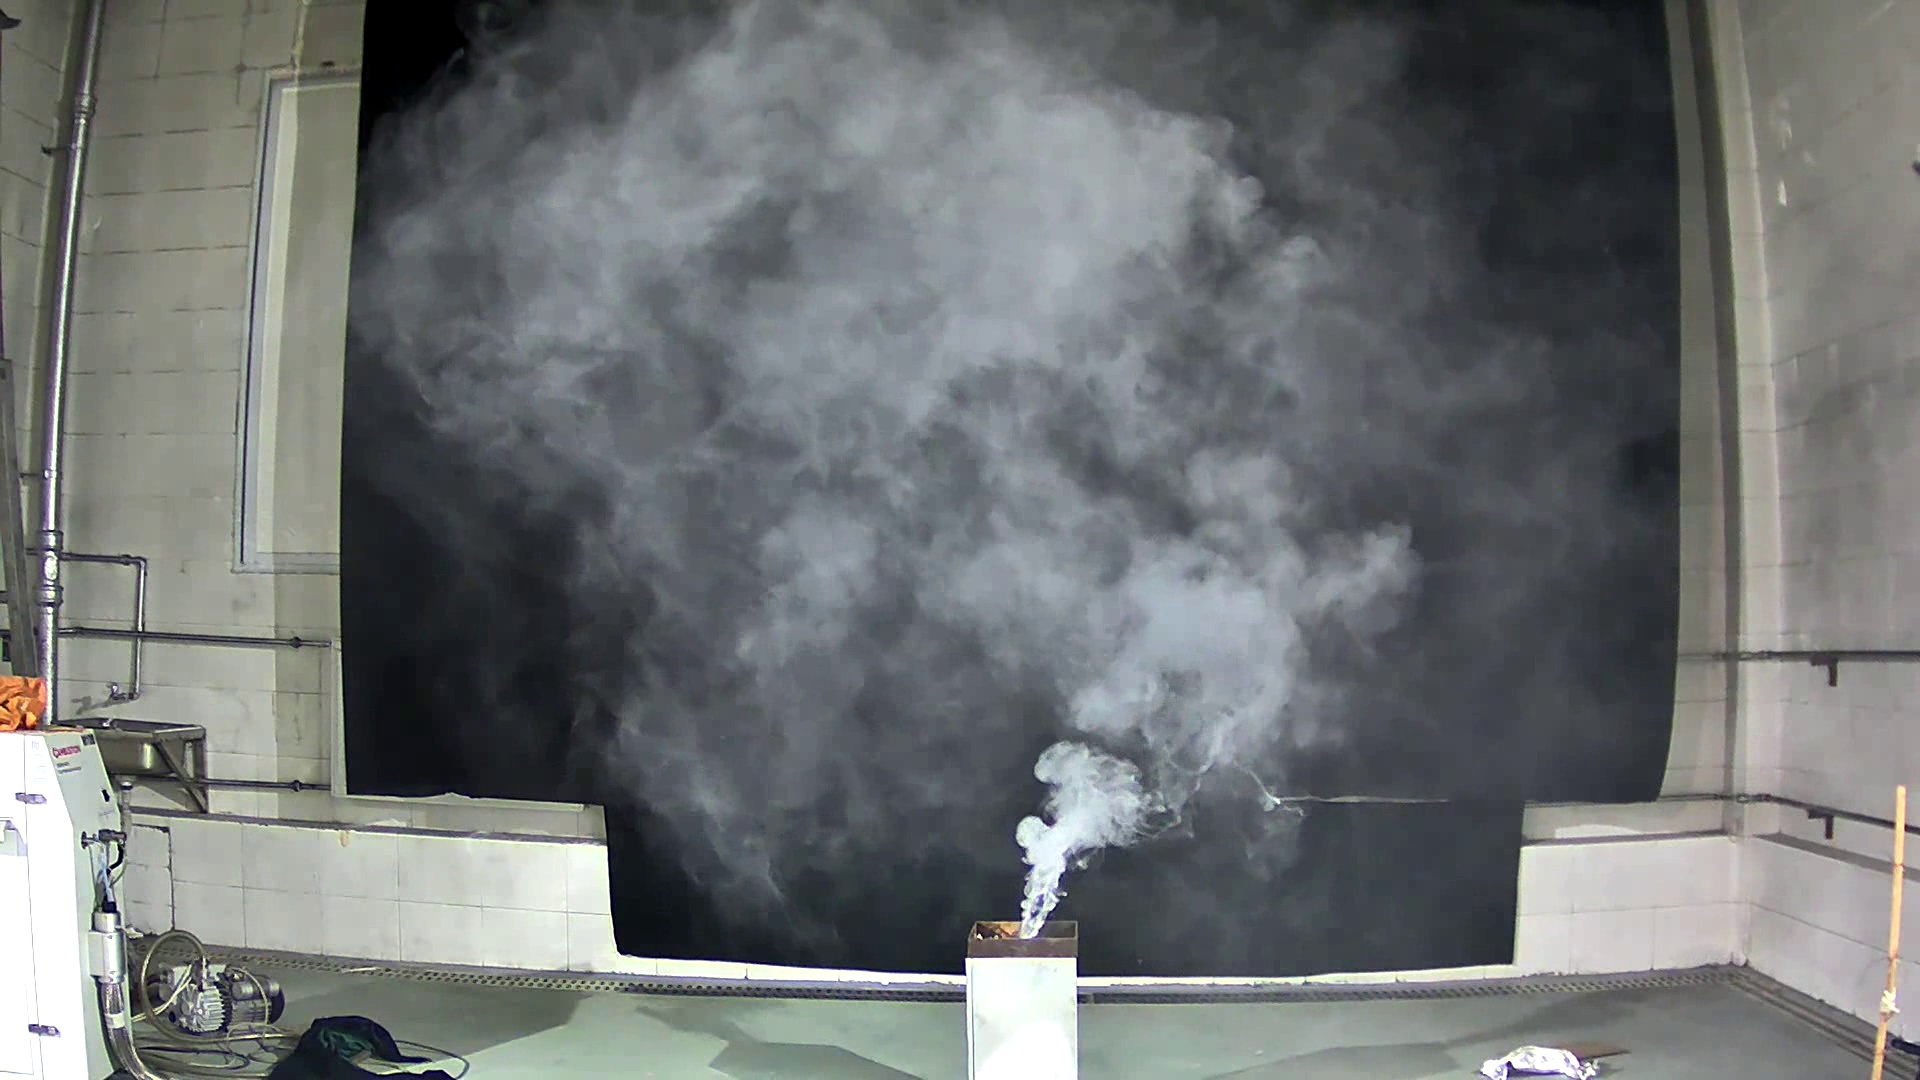smoke: (952, 443, 1418, 943)
